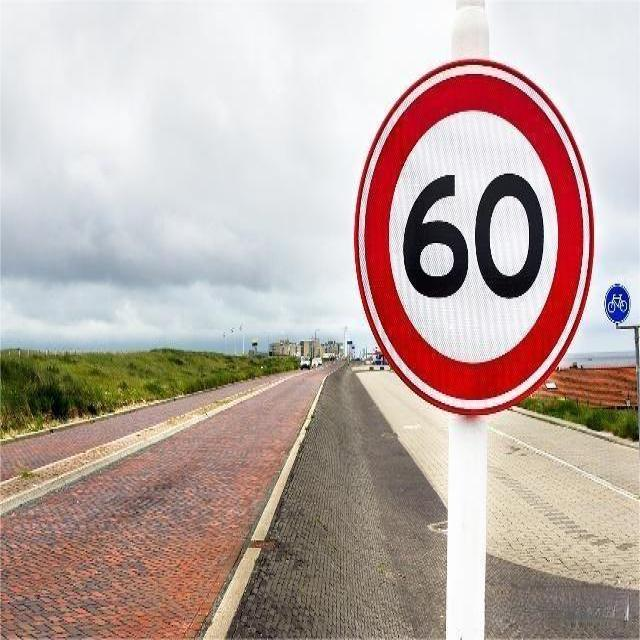speed limit 60: (354, 62, 594, 416)
